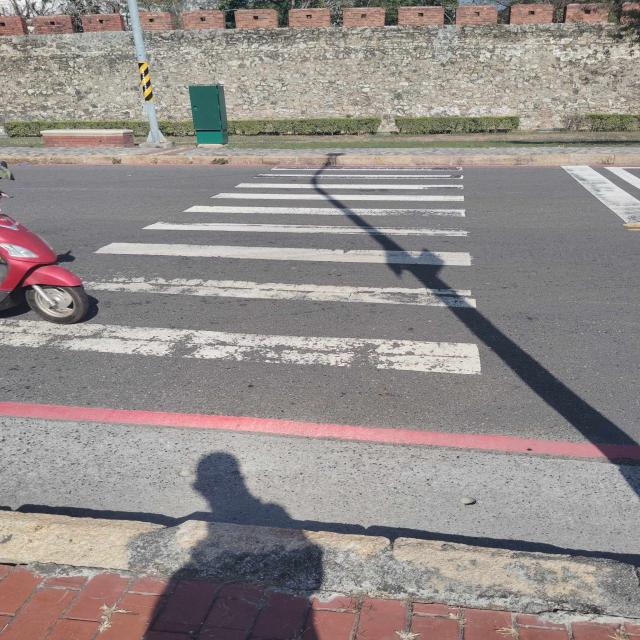zebra crossing: (2, 163, 464, 376)
